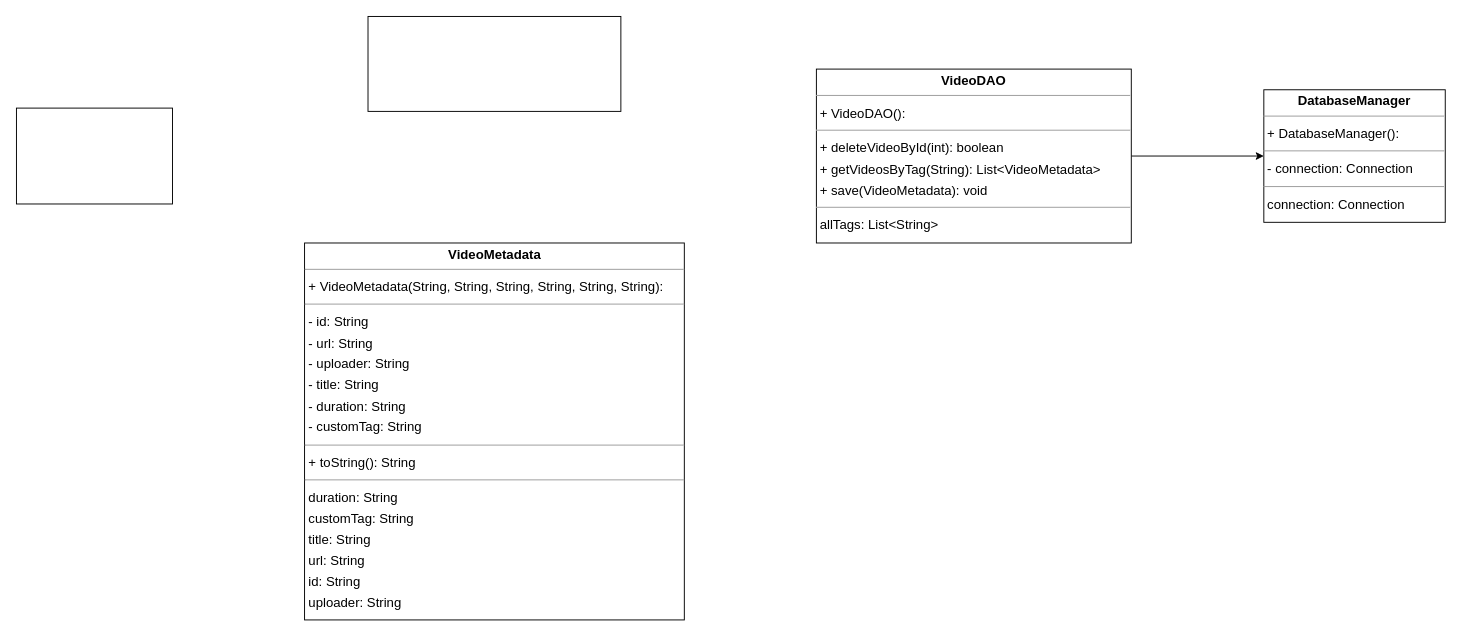
The diagram is 1462 pixels wide and 636 high, and some of its shapes have lost their labels. Here are the shapes that lost their labels. From the top down, the centre of each, then its label:
point (494, 63): MetadataFetcher + MetadataFetcher(): + fetch(String, String): VideoMetadata
point (94, 155): Main + Main(): + main(String[]): void
